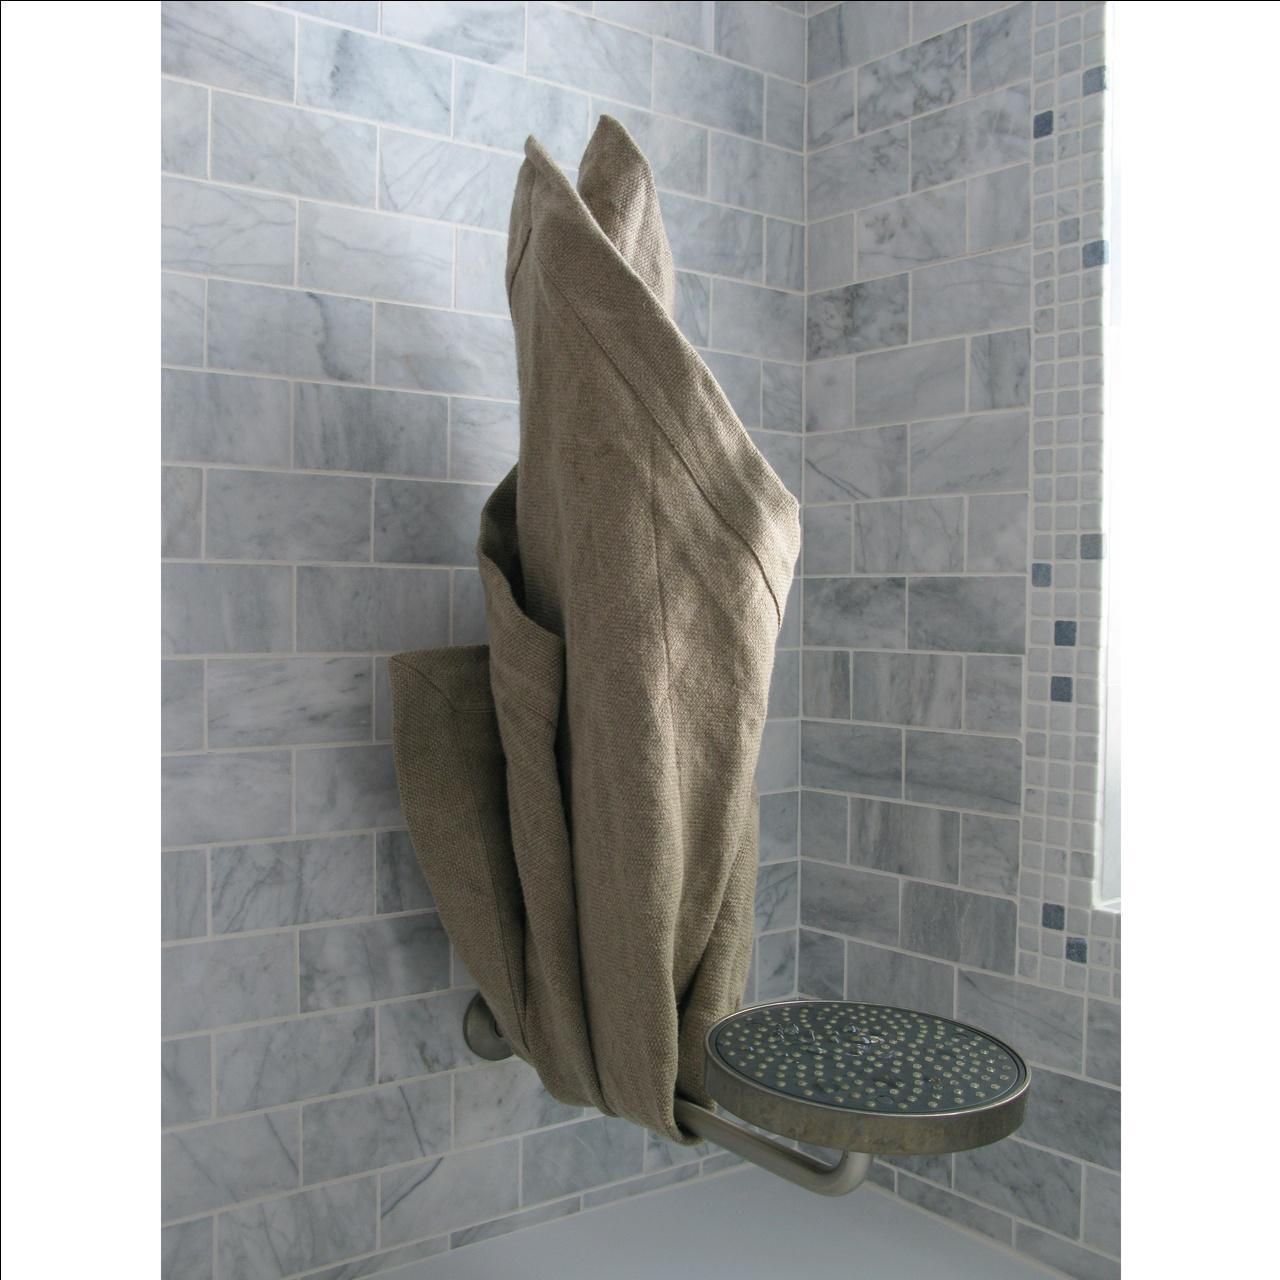towel: (374, 96, 777, 1210)
